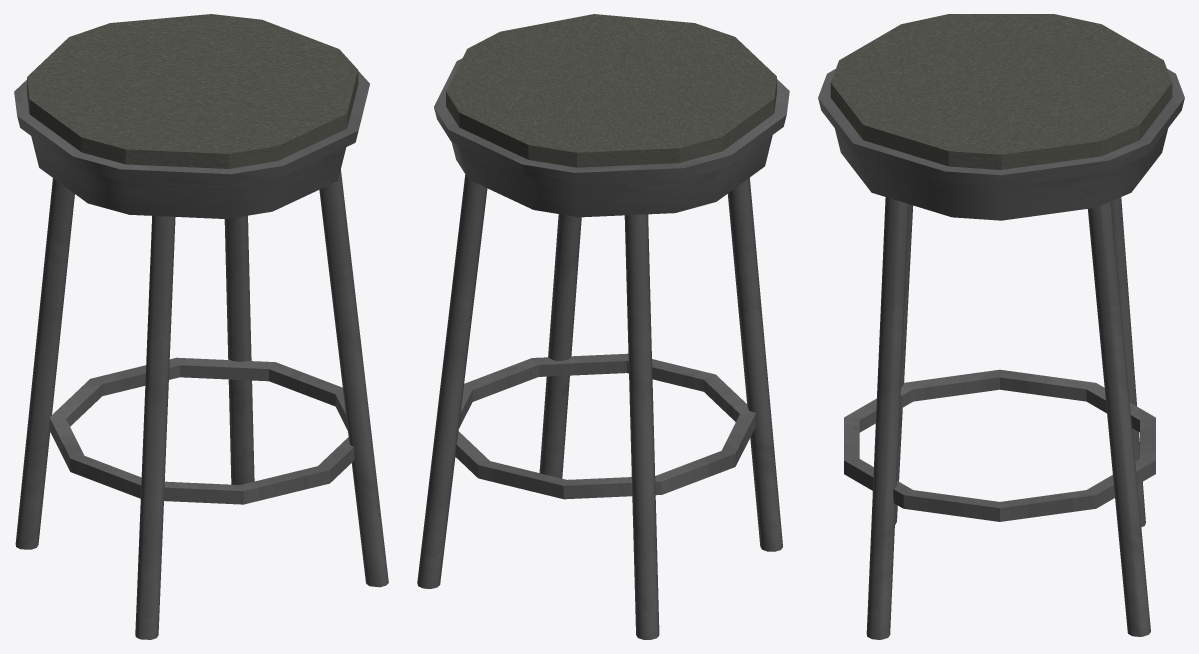
The model's file is 3dmodel_stool_v1_bs.fbx.
3 renders of one model, left to right at view 1: azimuth 30°, elevation 25°; view 2: azimuth 150°, elevation 25°; view 3: azimuth 270°, elevation 25°, orthographic. The views are drawn at different scales.
Visible parts, largest first — view 1: stool; view 2: stool; view 3: stool.
Boxes of the visible parts, <box> form: stool: <box>14,14,388,639</box>; stool: <box>417,14,789,639</box>; stool: <box>818,14,1184,639</box>.
Bounding box in the file's own units: 2.18 × 3.31 × 2.24.
